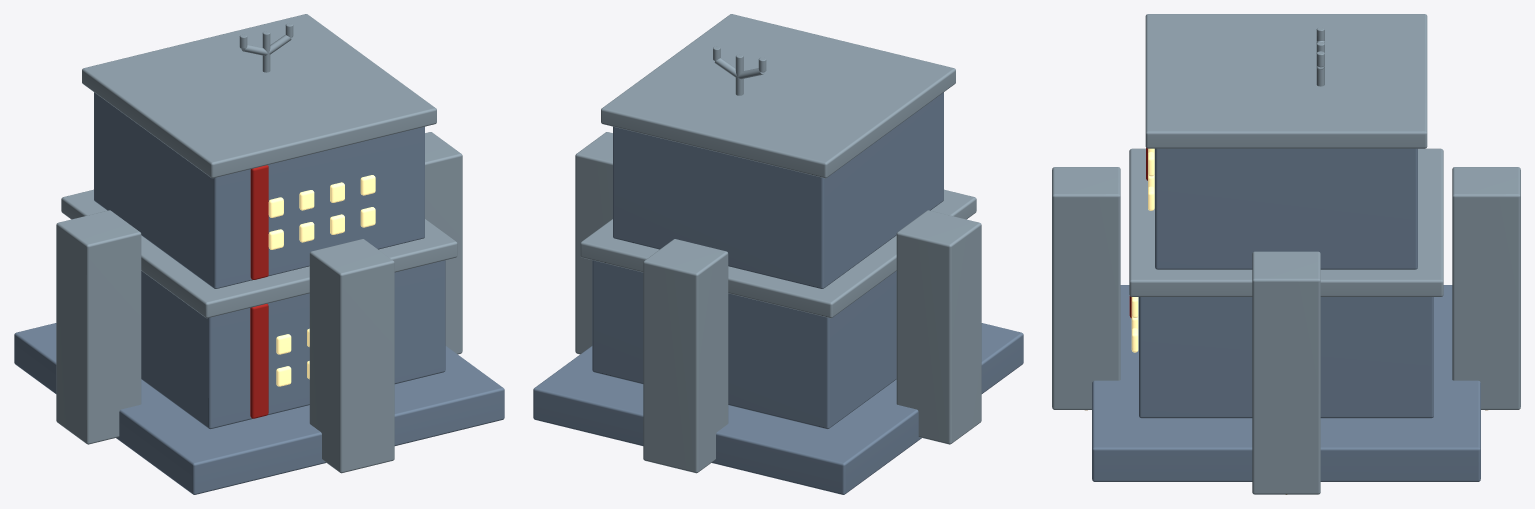
3 views of the same model, side by side, from view 1: azimuth 30°, elevation 25°; view 2: azimuth 150°, elevation 25°; view 3: azimuth 270°, elevation 25° (orthographic). The views are drawn at different scales.
Parts seen in each view (by area): view 1: Block roof ledge.001, Modular block storey.001, Modular block storey, Foundation slab, Block buttress.003, Block buttress.002, Block roof ledge, Block buttress, Vertical block colour strip, Vertical block colour strip.001; view 2: Modular block storey.001, Block roof ledge.001, Modular block storey, Foundation slab, Block buttress.001, Block buttress.002, Block roof ledge, Block buttress; view 3: Block roof ledge.001, Modular block storey.001, Modular block storey, Foundation slab, Block buttress, Block buttress.001, Block buttress.003, Block roof ledge.
Boxes of the visible parts, x1=… form: Block roof ledge.001: x1=82, y1=14, x2=436, y2=178; Modular block storey.001: x1=94, y1=92, x2=424, y2=288; Modular block storey: x1=141, y1=260, x2=445, y2=429; Foundation slab: x1=14, y1=323, x2=504, y2=494; Block buttress.003: x1=309, y1=239, x2=394, y2=473; Block buttress.002: x1=56, y1=210, x2=141, y2=444; Block roof ledge: x1=61, y1=189, x2=457, y2=318; Block buttress: x1=425, y1=132, x2=462, y2=354; Vertical block colour strip: x1=250, y1=304, x2=268, y2=418; Vertical block colour strip.001: x1=250, y1=165, x2=268, y2=279; Modular block storey.001: x1=613, y1=92, x2=943, y2=288; Block roof ledge.001: x1=601, y1=14, x2=955, y2=178; Modular block storey: x1=592, y1=260, x2=896, y2=429; Foundation slab: x1=533, y1=323, x2=1023, y2=494; Block buttress.001: x1=643, y1=239, x2=728, y2=473; Block buttress.002: x1=896, y1=210, x2=981, y2=444; Block roof ledge: x1=580, y1=189, x2=976, y2=318; Block buttress: x1=575, y1=132, x2=612, y2=354; Block roof ledge.001: x1=1145, y1=14, x2=1427, y2=148; Modular block storey.001: x1=1155, y1=148, x2=1417, y2=269; Modular block storey: x1=1139, y1=297, x2=1433, y2=418; Foundation slab: x1=1092, y1=285, x2=1480, y2=481; Block buttress: x1=1252, y1=251, x2=1320, y2=494; Block buttress.001: x1=1452, y1=167, x2=1520, y2=409; Block buttress.003: x1=1052, y1=167, x2=1120, y2=409; Block roof ledge: x1=1129, y1=148, x2=1443, y2=296.
Bounding box in the file's own units: 2.46 × 2.15 × 2.46.
